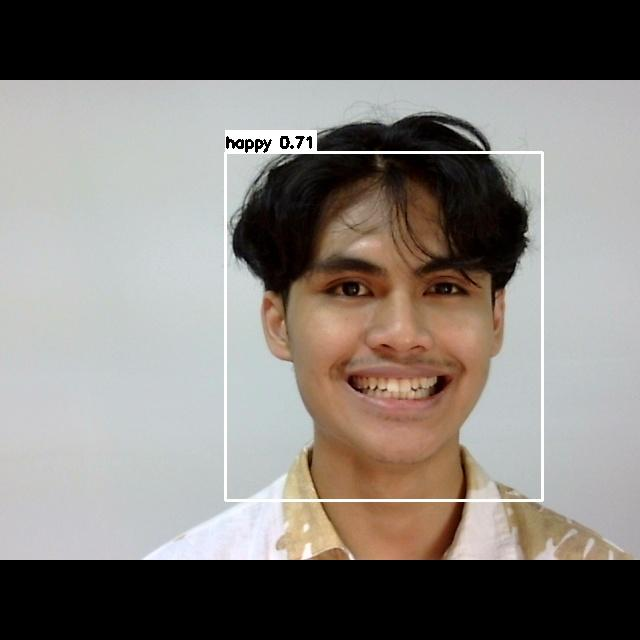Happy: (280, 234, 505, 425)
